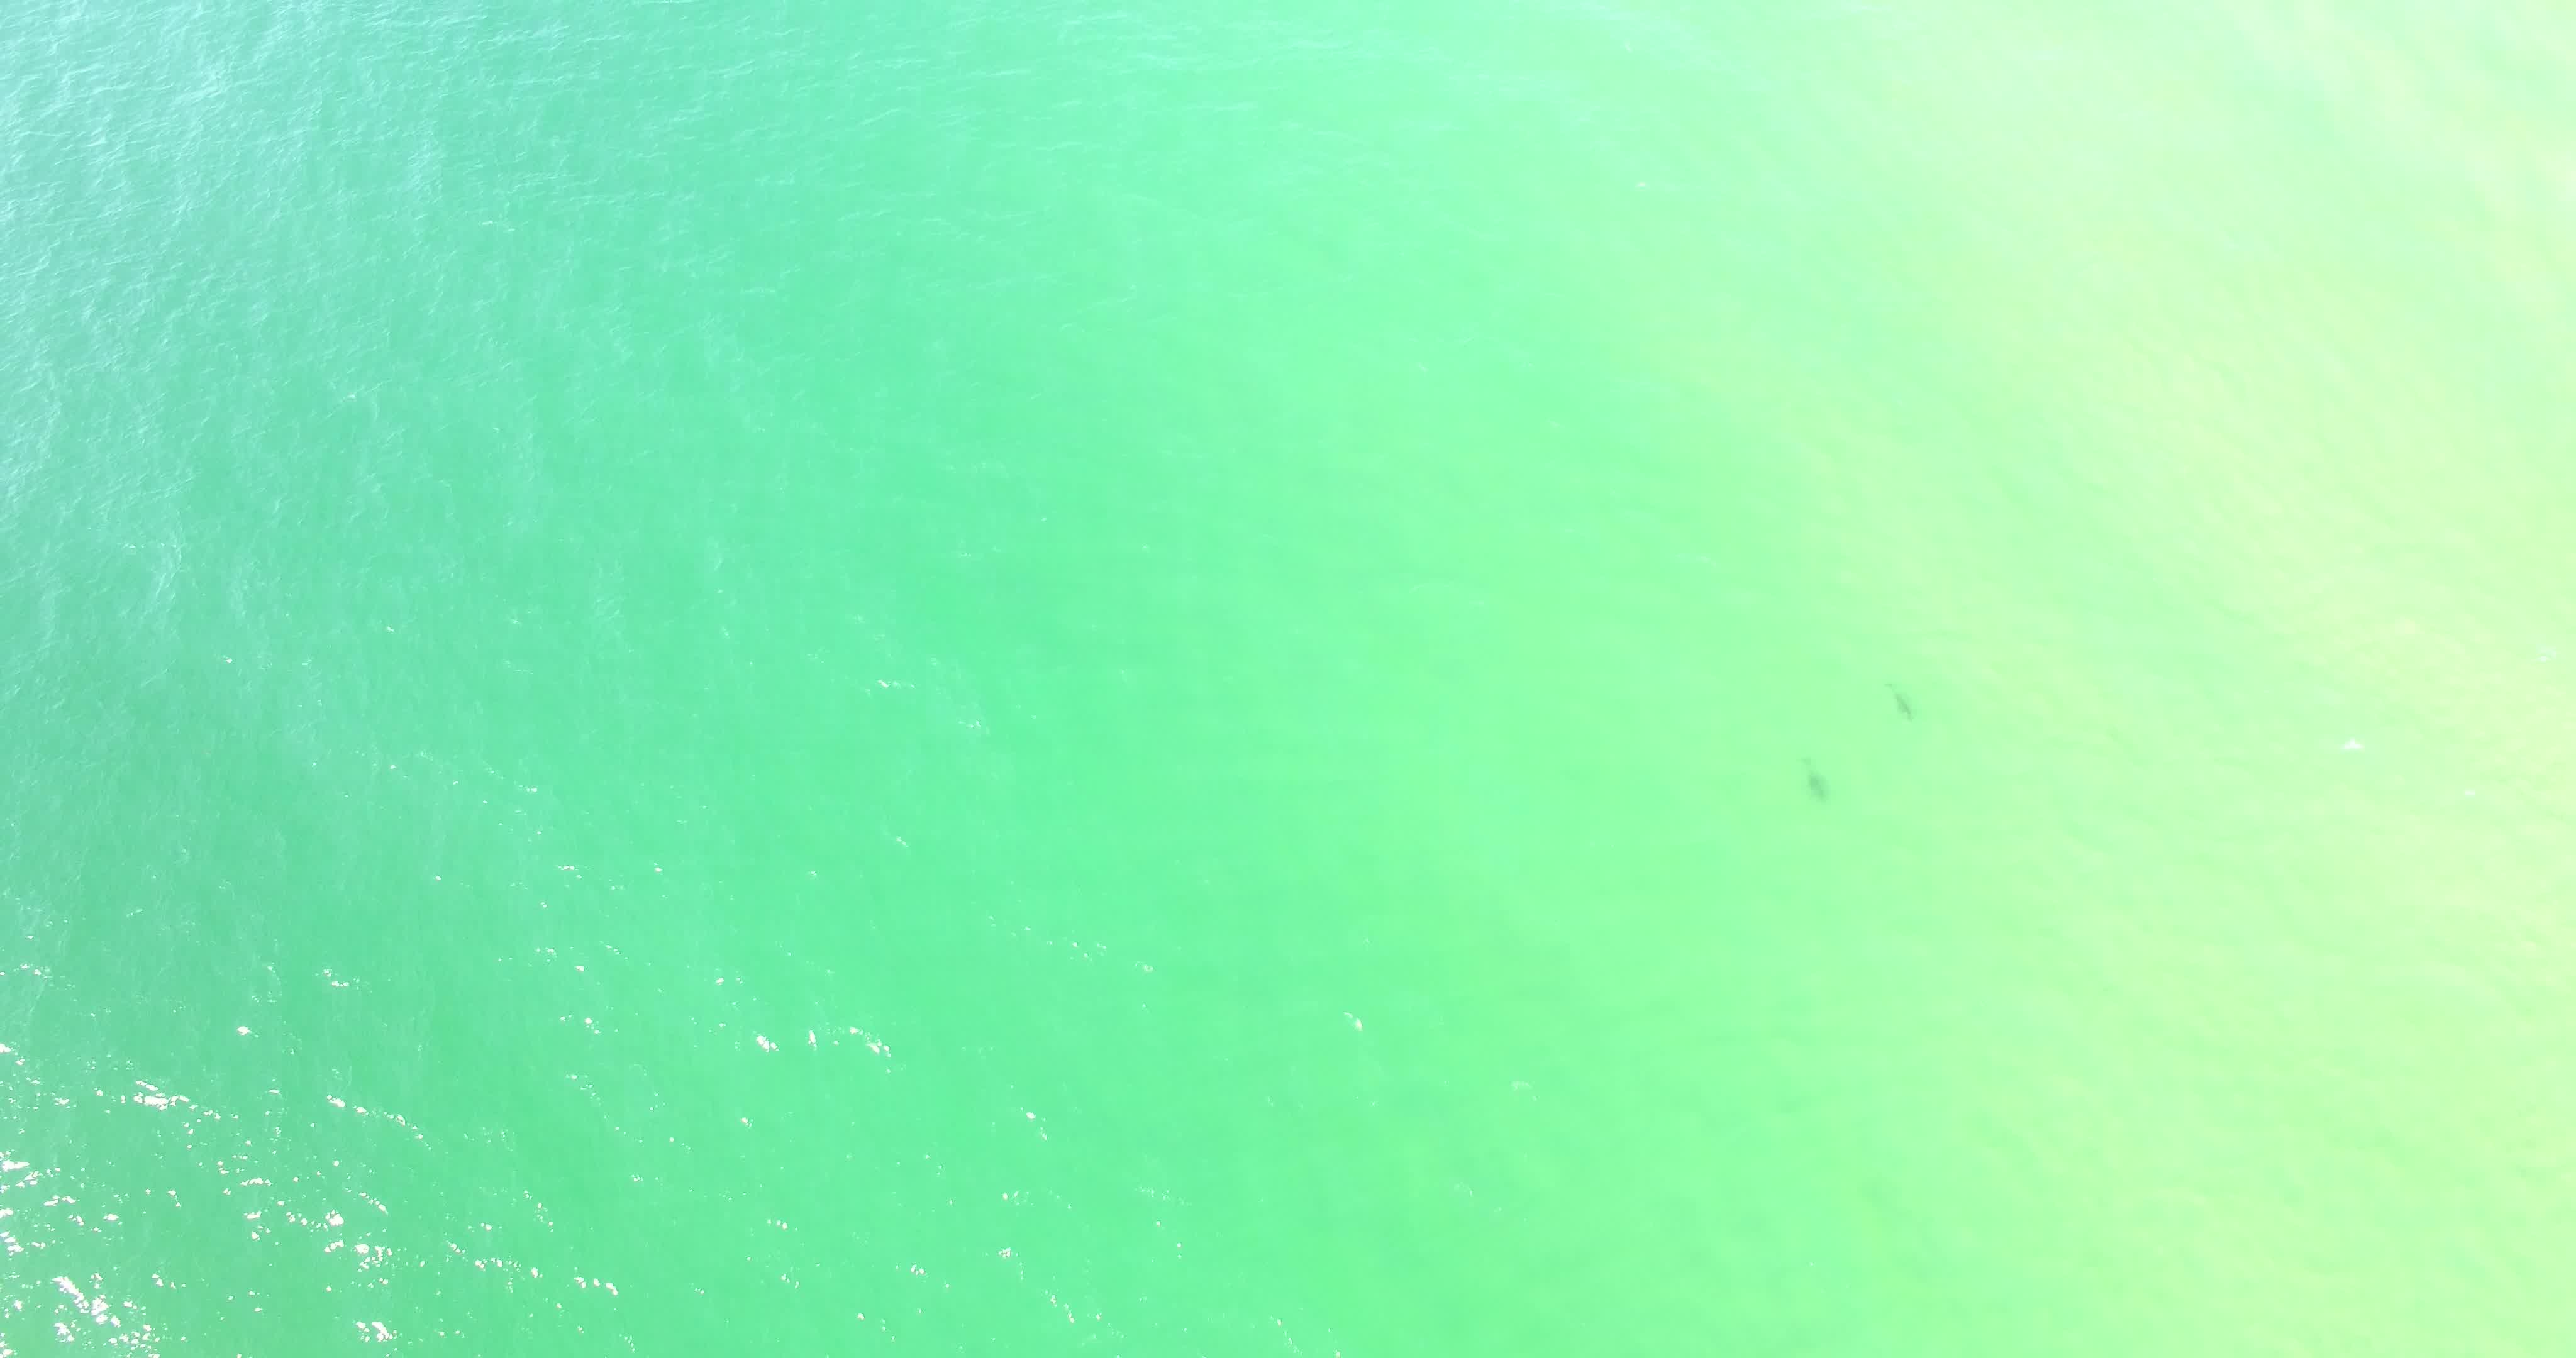dolphin: (1864, 668, 1930, 753), (1780, 739, 1843, 808)
